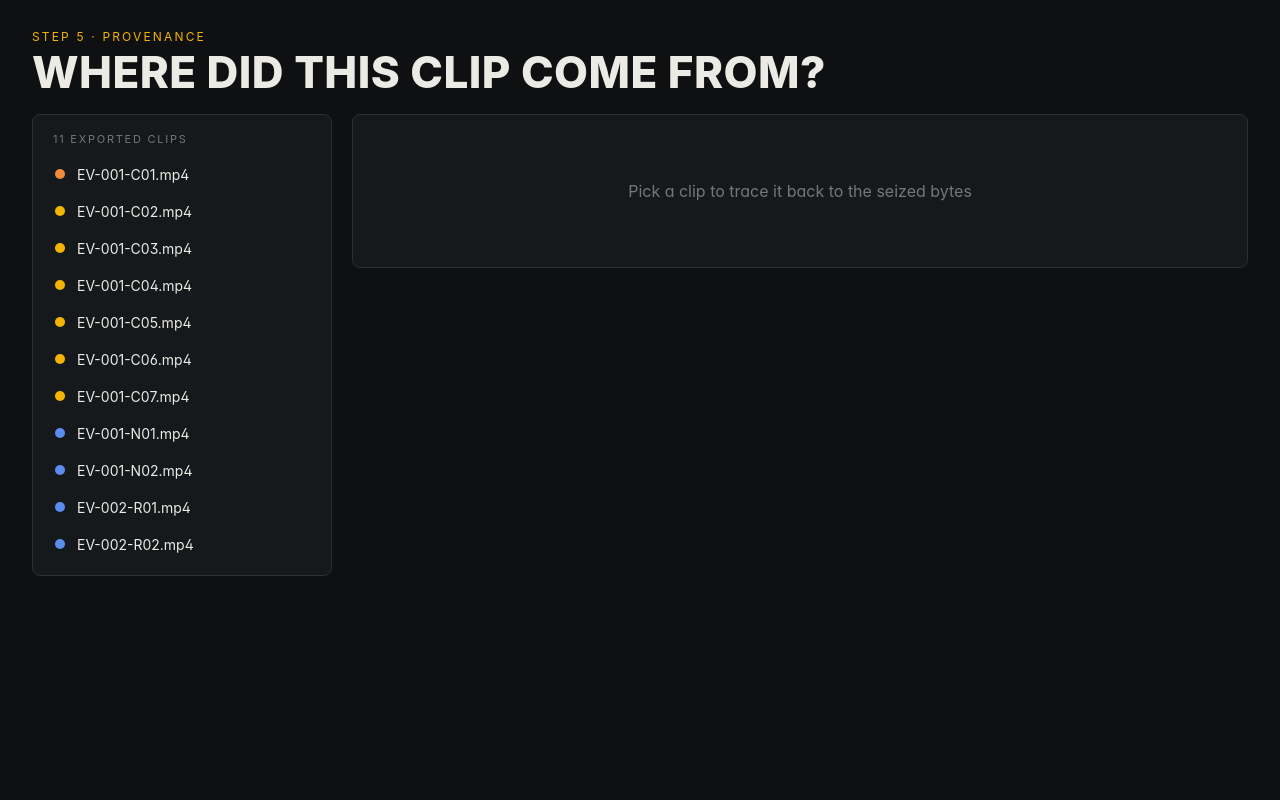
Scenario: Provenance › re-hashing the clip compares its SHA-256 with the one recorded at export
What coordinates should you click on to do the following:
click the button "EV-001-C01.mp4"
I would click on:
 (182, 174)
Its box is [45,156,319,192].
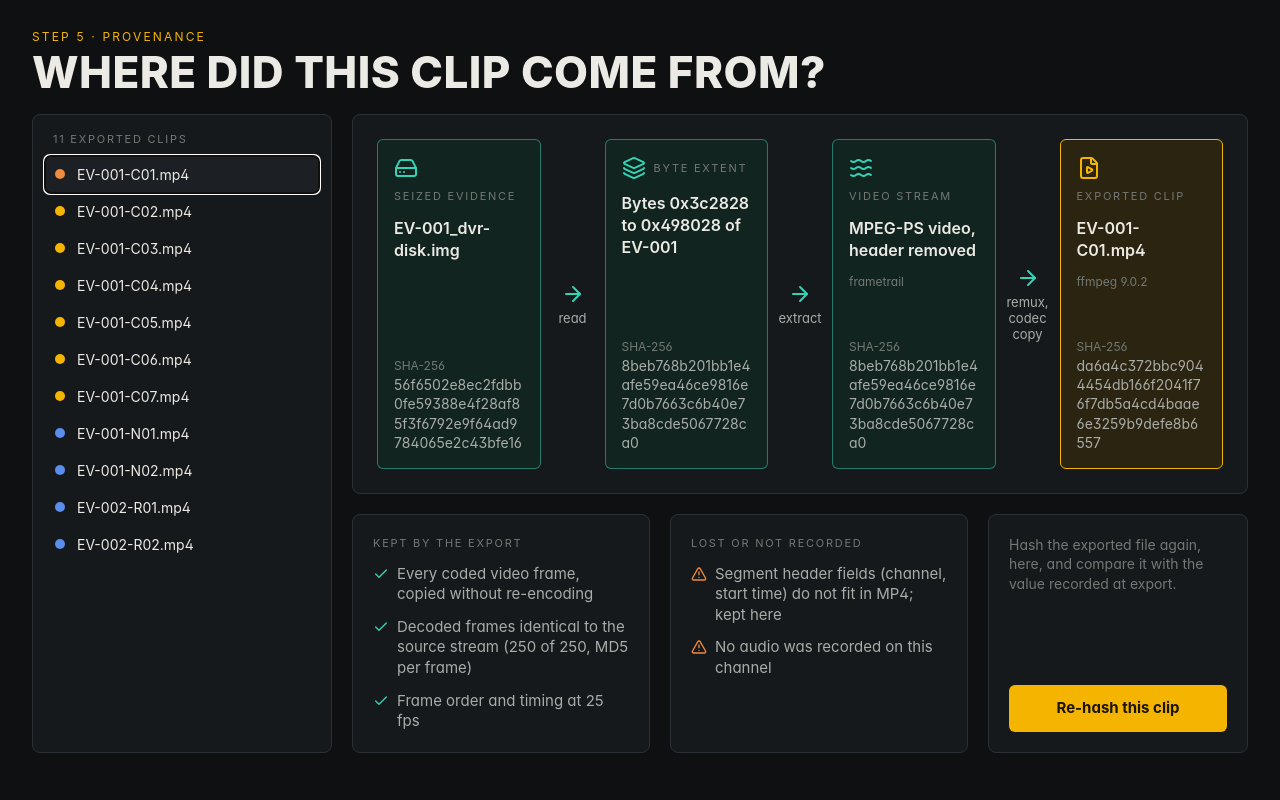
What coordinates should you click on to do the following:
click the button with test id "rehash"
I would click on:
 (1118, 709)
Its box is [1009,685,1227,732].
Wait 800 ms
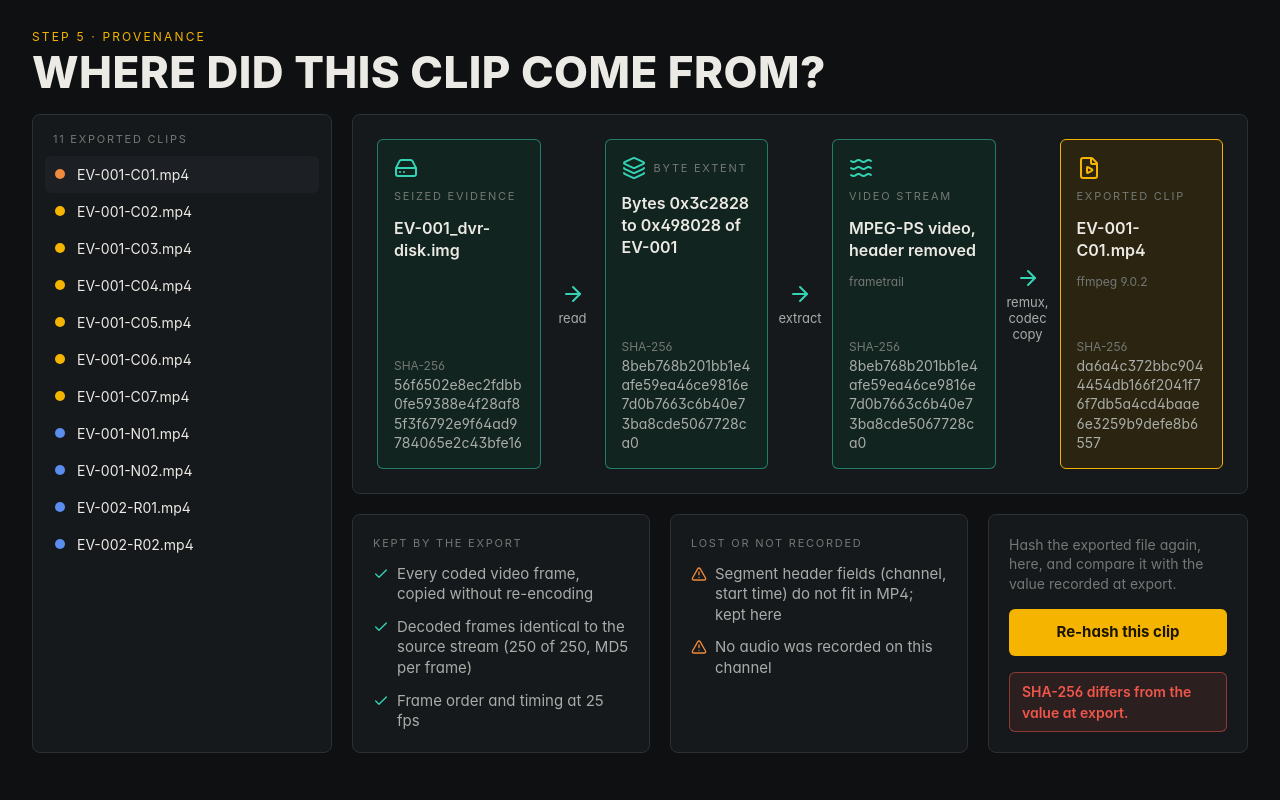
Result: the text with test id "rehash-result" reads "SHA-256 differs from the value at export." at [1022,683,1191,721]
